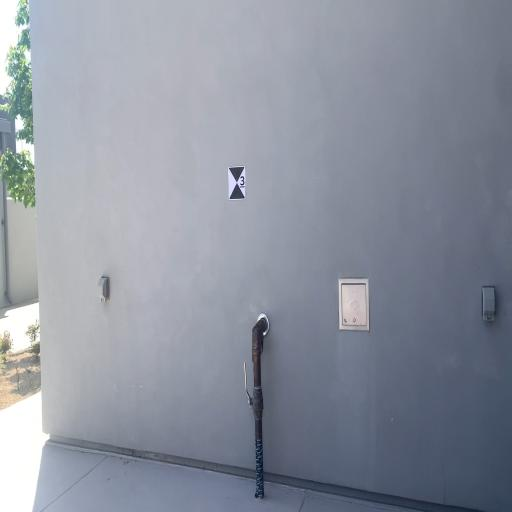target3: (228, 165, 246, 202)
